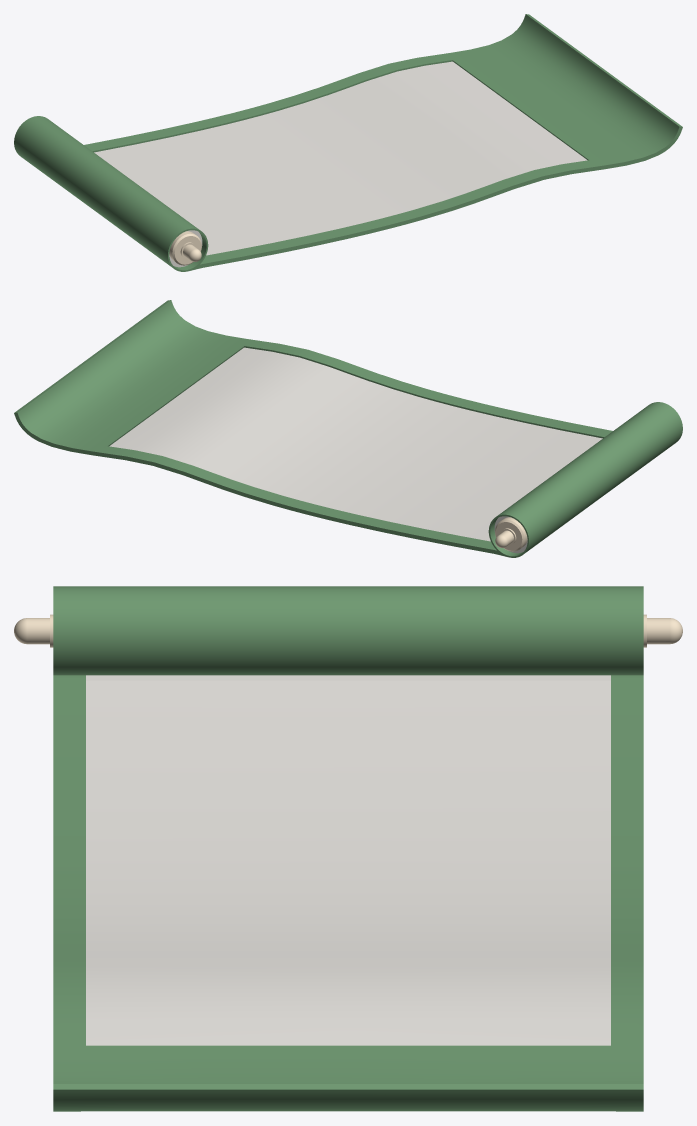
3 views of the same model, one above another, from view 1: azimuth 30°, elevation 25°; view 2: azimuth 150°, elevation 25°; view 3: azimuth 270°, elevation 25° (orthographic). The views are drawn at different scales.
Visible parts, largest first — view 1: makimono_open; view 2: makimono_open; view 3: makimono_open.
Boxes of the visible parts, x1,y1,x2,y2 form: makimono_open: (14, 14, 682, 271); makimono_open: (14, 300, 682, 557); makimono_open: (14, 586, 682, 1111).
Size of the model in its own units: 34.79 by 3.15 by 20.4.
